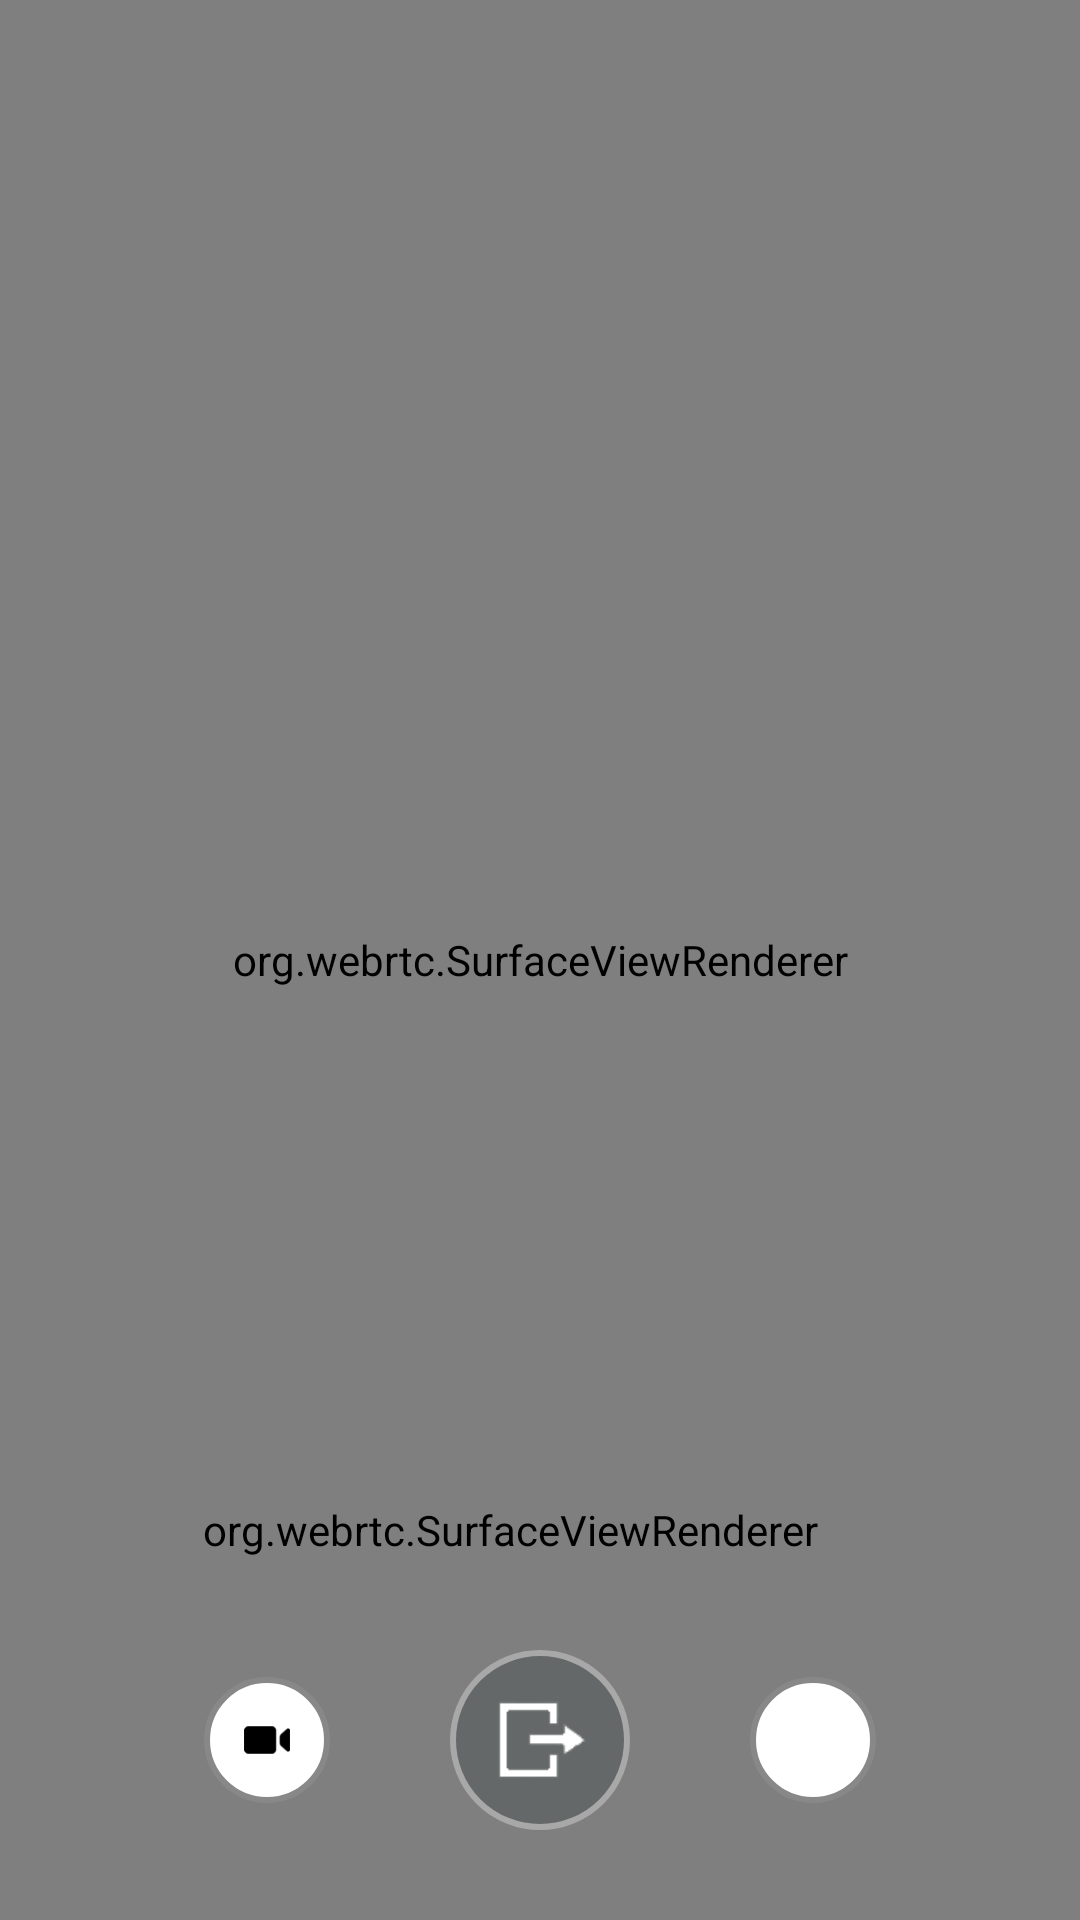

Icons on this 1080px x 1920px Android screen, each with the point to tap as [x,y]:
call exit: [540,1740]
video on: [267,1740]
